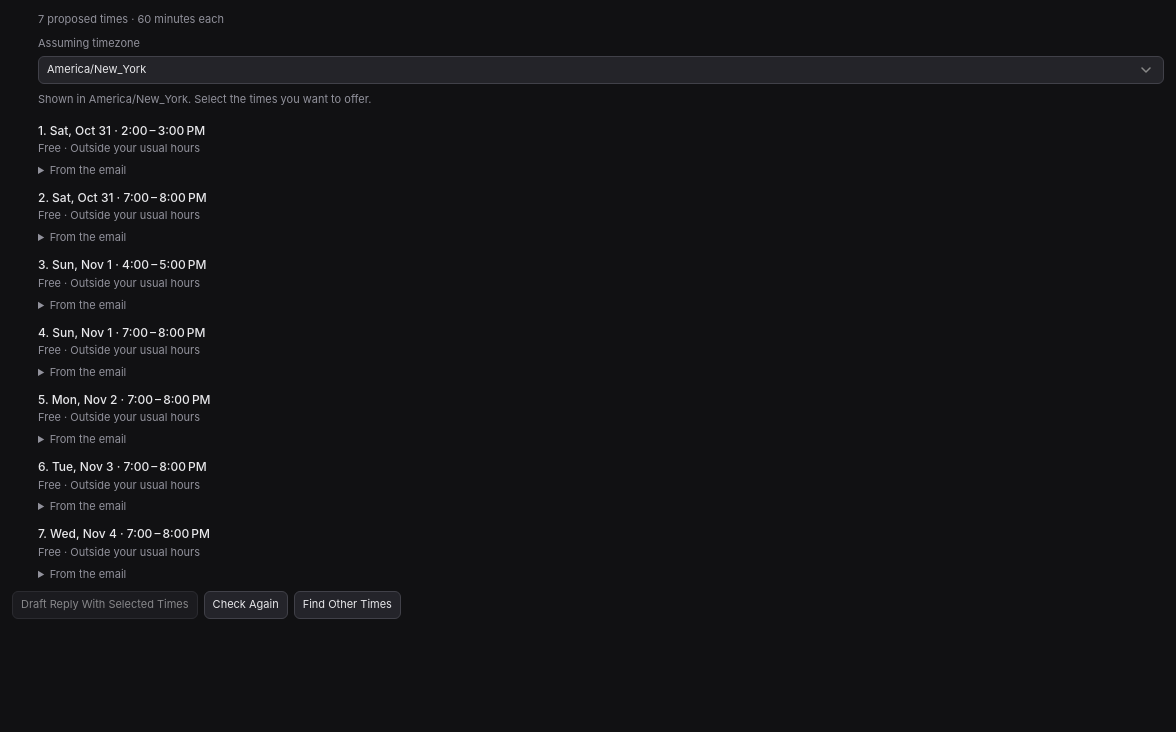
proposed times › uses offered alternatives instead of range suggestions until Find Other Times is pressed
Click the button "Find Other Times": (347, 605) [294,591,401,619]
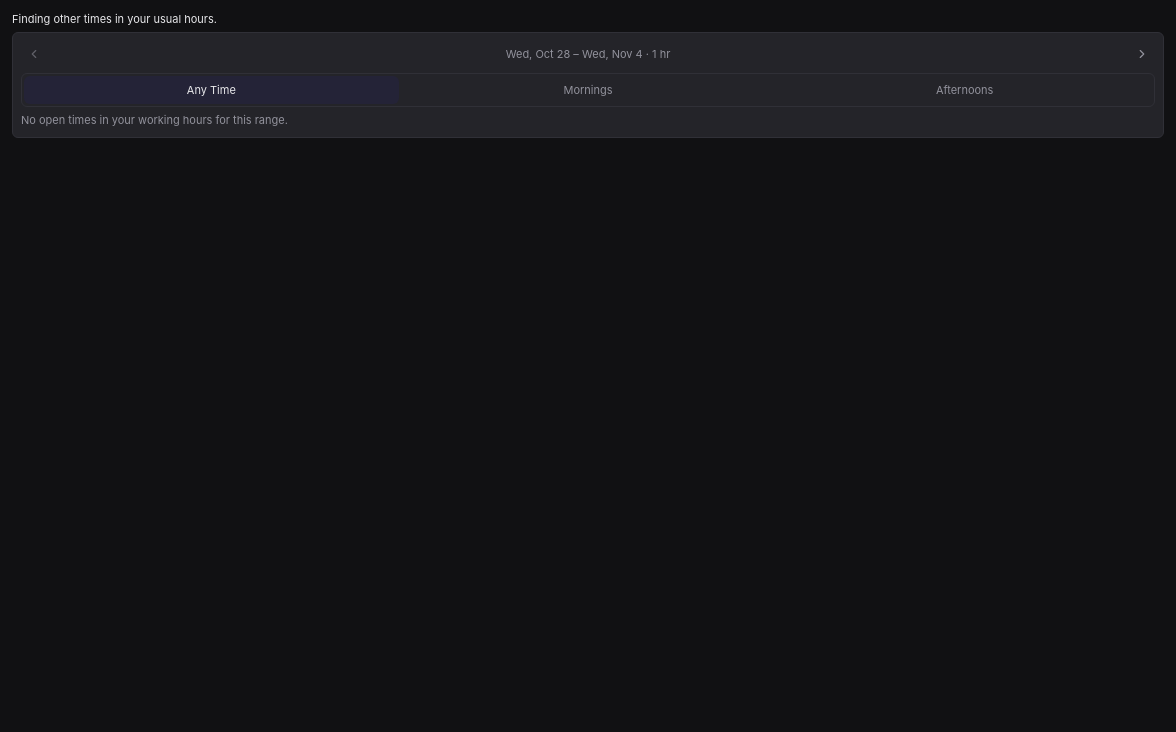
Now the text "proposed times" is gone
